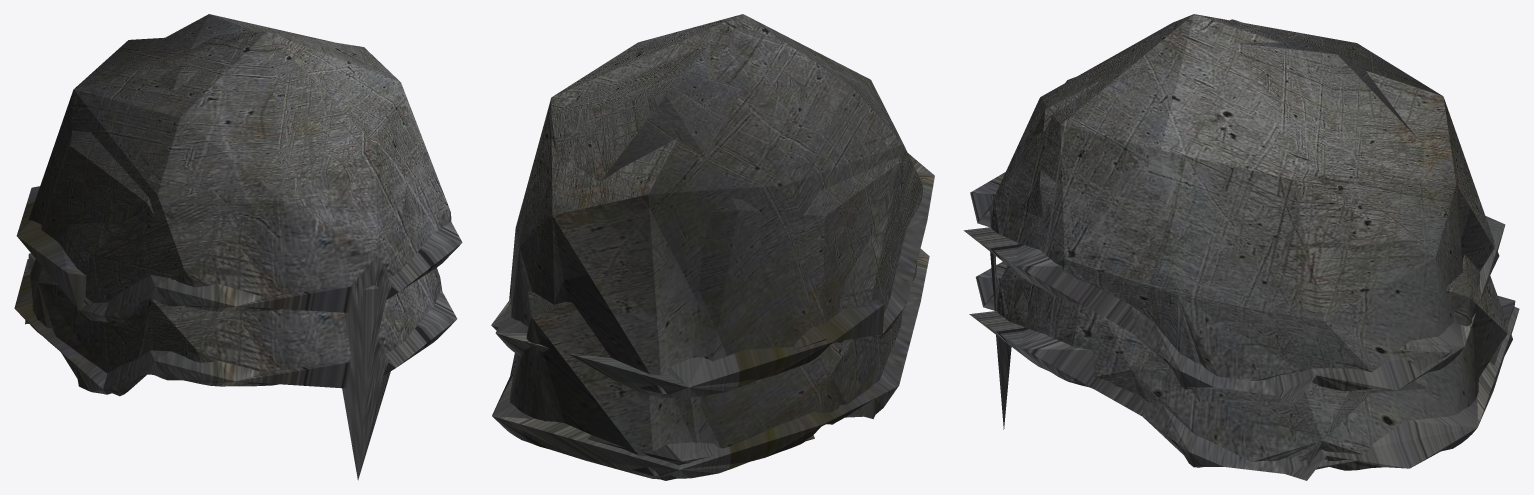
Rendered from helm_templer.glb.
The picture shows the model from 3 angles, left to right: view 1: azimuth 30°, elevation 25°; view 2: azimuth 150°, elevation 25°; view 3: azimuth 270°, elevation 25°; orthographic projection. The views are drawn at different scales.
Visible parts, largest first — view 1: Helm_Templer_M, Helm_Templer_W; view 2: Helm_Templer_M, Helm_Templer_W; view 3: Helm_Templer_M, Helm_Templer_W.
Boxes of the visible parts, x1,y1,x2,y2 form: Helm_Templer_M: (16, 14, 462, 412); Helm_Templer_W: (14, 253, 457, 480); Helm_Templer_M: (491, 14, 934, 398); Helm_Templer_W: (492, 248, 929, 480); Helm_Templer_M: (963, 14, 1505, 402); Helm_Templer_W: (969, 255, 1519, 480).
Bounding box in the file's own units: 0.1936 × 0.2094 × 0.254.
Materials: 1 (1 with a texture image).
